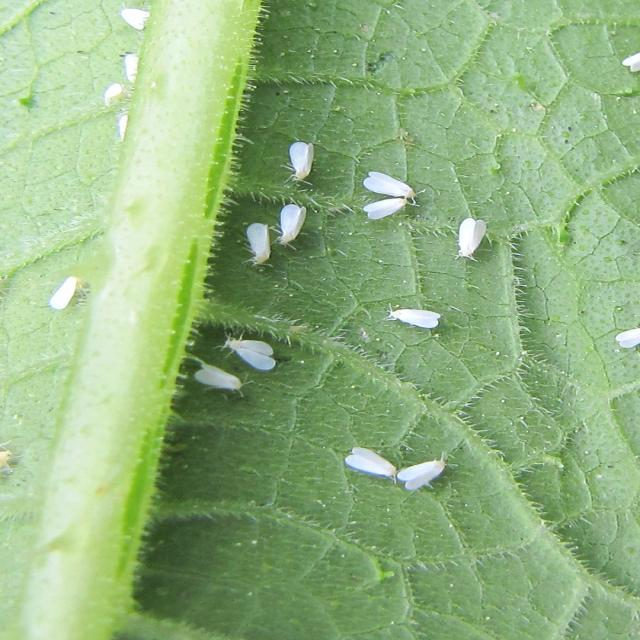BemisiaTabaci: (359, 160, 433, 227), (319, 437, 405, 484), (443, 207, 507, 268), (216, 324, 292, 373), (272, 130, 335, 189), (406, 426, 458, 496), (36, 264, 104, 316), (371, 298, 461, 333), (190, 354, 252, 400), (106, 48, 162, 86), (106, 3, 170, 36), (609, 323, 640, 353)
